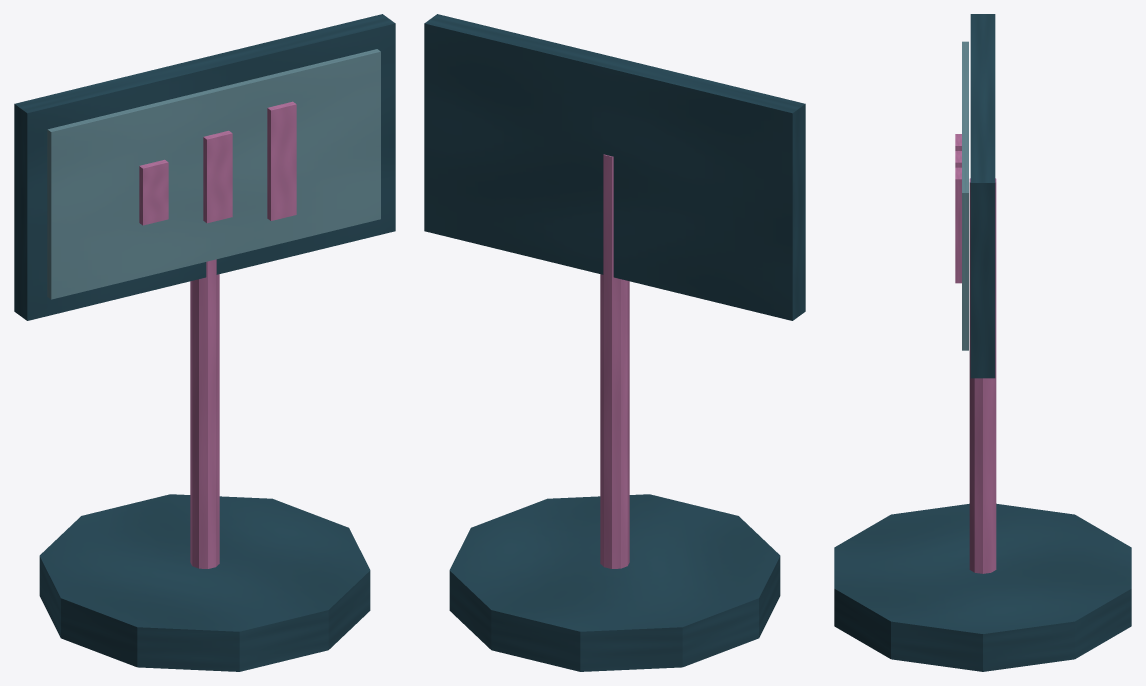
Rendered from atlas100-s063-a11.glb.
The picture shows the model from 3 angles, left to right: view 1: azimuth 30°, elevation 25°; view 2: azimuth 150°, elevation 25°; view 3: azimuth 270°, elevation 25°; orthographic projection. The views are drawn at different scales.
Parts seen in each view (by area): view 1: atlas100-s063-a11:part-003, atlas100-s063-a11:part-000, atlas100-s063-a11:part-002, atlas100-s063-a11:part-001, atlas100-s063-a11:part-006, atlas100-s063-a11:part-005, atlas100-s063-a11:part-004; view 2: atlas100-s063-a11:part-002, atlas100-s063-a11:part-000, atlas100-s063-a11:part-001; view 3: atlas100-s063-a11:part-000, atlas100-s063-a11:part-002, atlas100-s063-a11:part-001, atlas100-s063-a11:part-003, atlas100-s063-a11:part-006.
Boxes of the visible parts, <box> form: atlas100-s063-a11:part-003: <box>47,49,380,299</box>; atlas100-s063-a11:part-000: <box>39,494,370,671</box>; atlas100-s063-a11:part-002: <box>14,14,395,320</box>; atlas100-s063-a11:part-001: <box>190,259,219,568</box>; atlas100-s063-a11:part-006: <box>267,101,296,220</box>; atlas100-s063-a11:part-005: <box>203,130,232,223</box>; atlas100-s063-a11:part-004: <box>139,159,168,225</box>; atlas100-s063-a11:part-002: <box>424,14,805,320</box>; atlas100-s063-a11:part-000: <box>449,494,780,671</box>; atlas100-s063-a11:part-001: <box>600,154,629,568</box>; atlas100-s063-a11:part-000: <box>834,503,1131,671</box>; atlas100-s063-a11:part-002: <box>970,14,995,378</box>; atlas100-s063-a11:part-001: <box>969,178,996,573</box>; atlas100-s063-a11:part-003: <box>962,41,968,350</box>; atlas100-s063-a11:part-006: <box>955,167,961,283</box>.
Size of the model in its own units: 1.15 by 1.61 by 0.856.
Materials: 3 (3 with a texture image).
